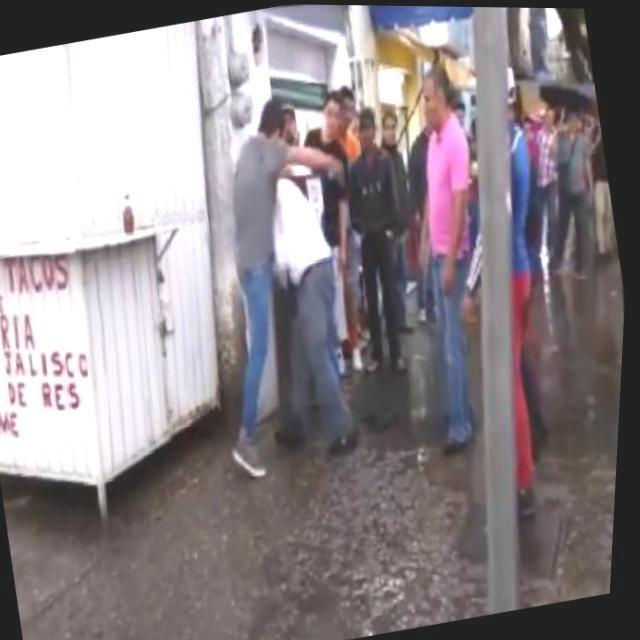fight: (170, 80, 408, 487)
